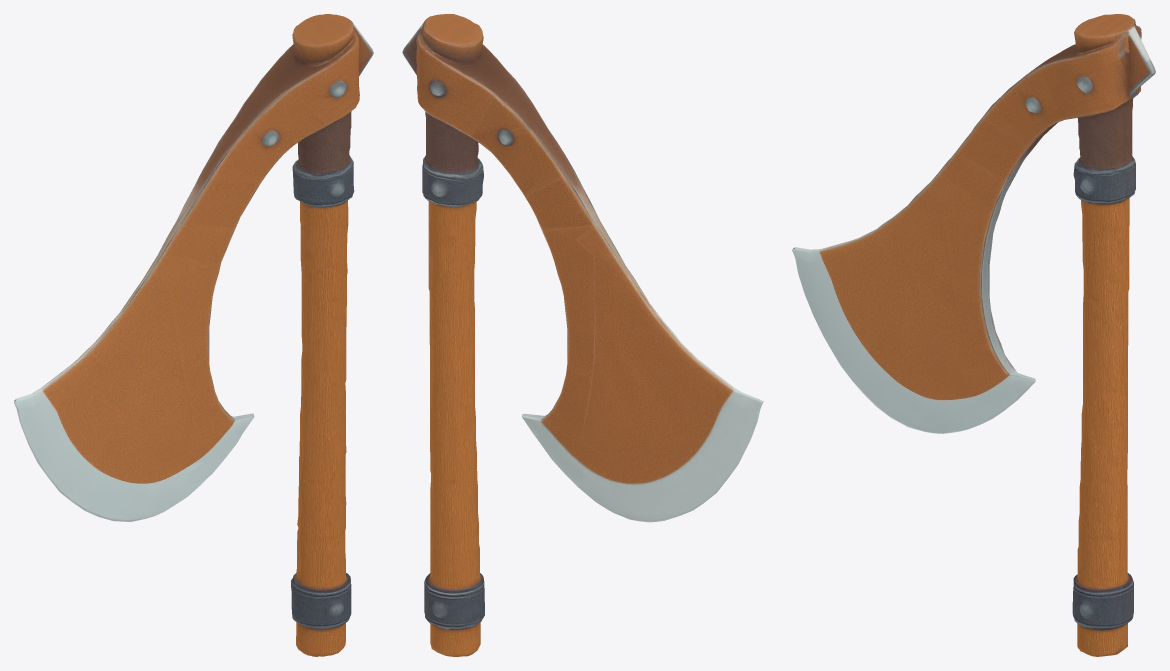
Rendered from elbaf-axe.opt.glb.
3 views of the same model, side by side, from view 1: azimuth 30°, elevation 25°; view 2: azimuth 150°, elevation 25°; view 3: azimuth 330°, elevation 25° (orthographic).
Size of the model in its own units: 1.15 by 1.91 by 0.2231.
1 material, 1 textured.
